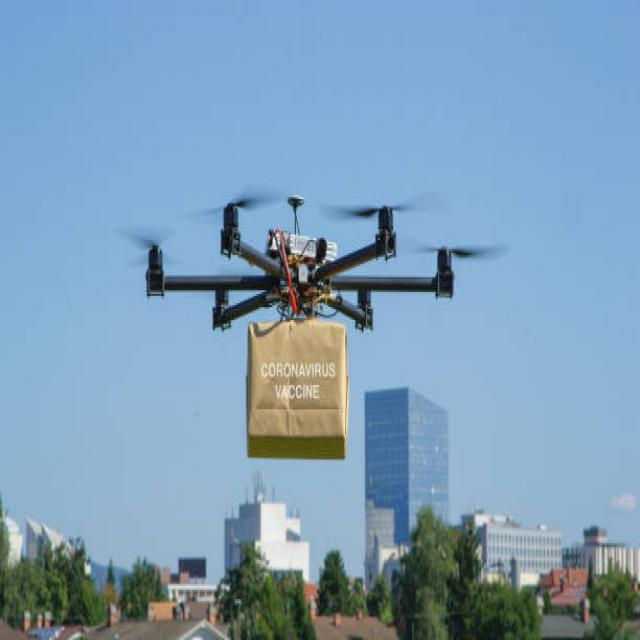drone: (116, 135, 518, 360)
